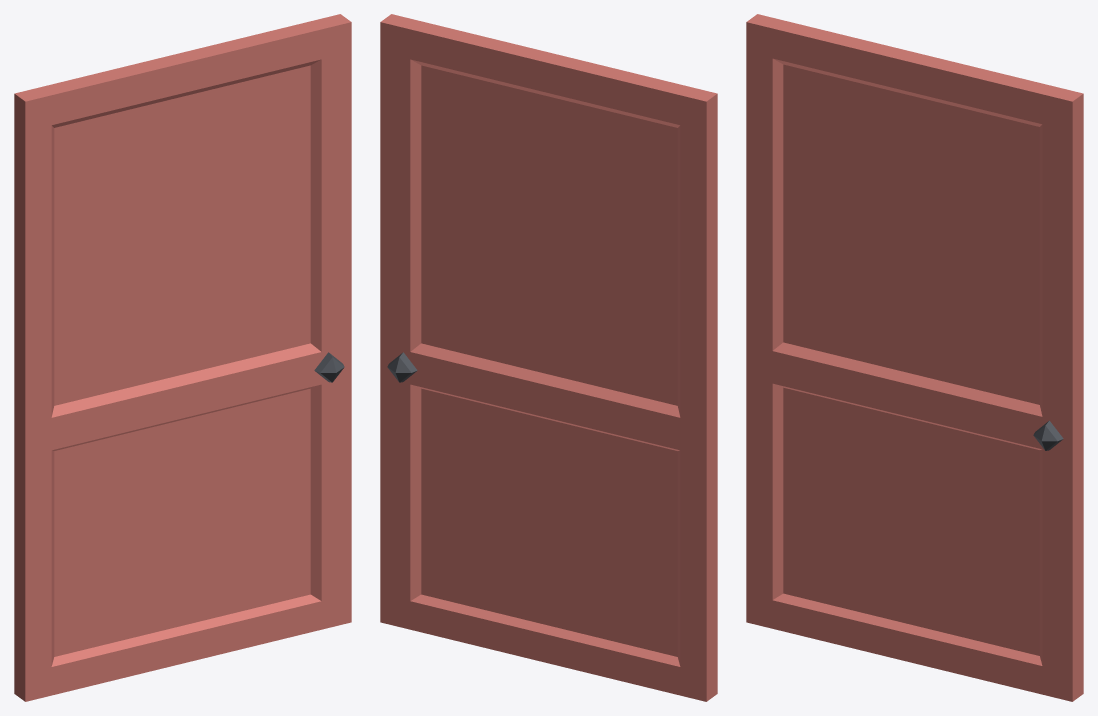
Rendered from Door_2F.fbx.
3 views of the same model, side by side, from view 1: azimuth 30°, elevation 25°; view 2: azimuth 150°, elevation 25°; view 3: azimuth 330°, elevation 25° (orthographic).
Visible parts, largest first — view 1: polySurface1648; view 2: polySurface1648; view 3: polySurface1648.
Boxes of the visible parts, left/top/right/bottom form: polySurface1648: left=14, top=14, right=351, bottom=701; polySurface1648: left=380, top=14, right=717, bottom=701; polySurface1648: left=746, top=14, right=1083, bottom=701.
Size of the model in its own units: 1.7 by 2.99 by 0.243.
Materials: 1 (1 with a texture image).
